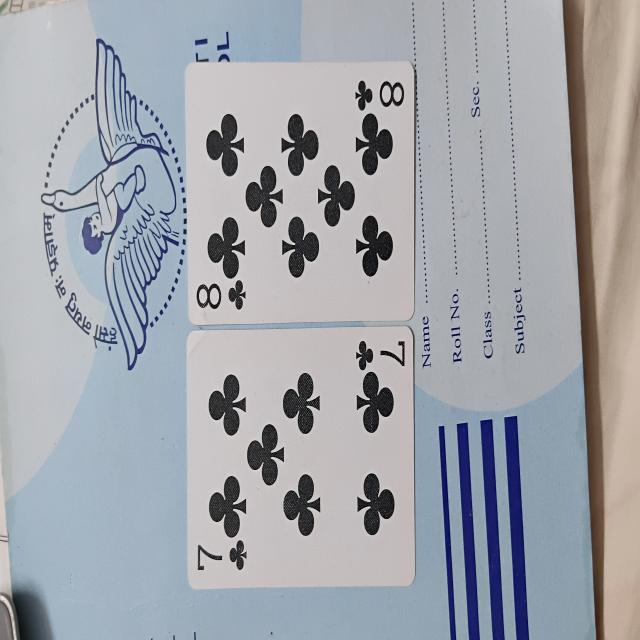7C: (186, 330, 414, 587)
8C: (183, 62, 417, 328)
